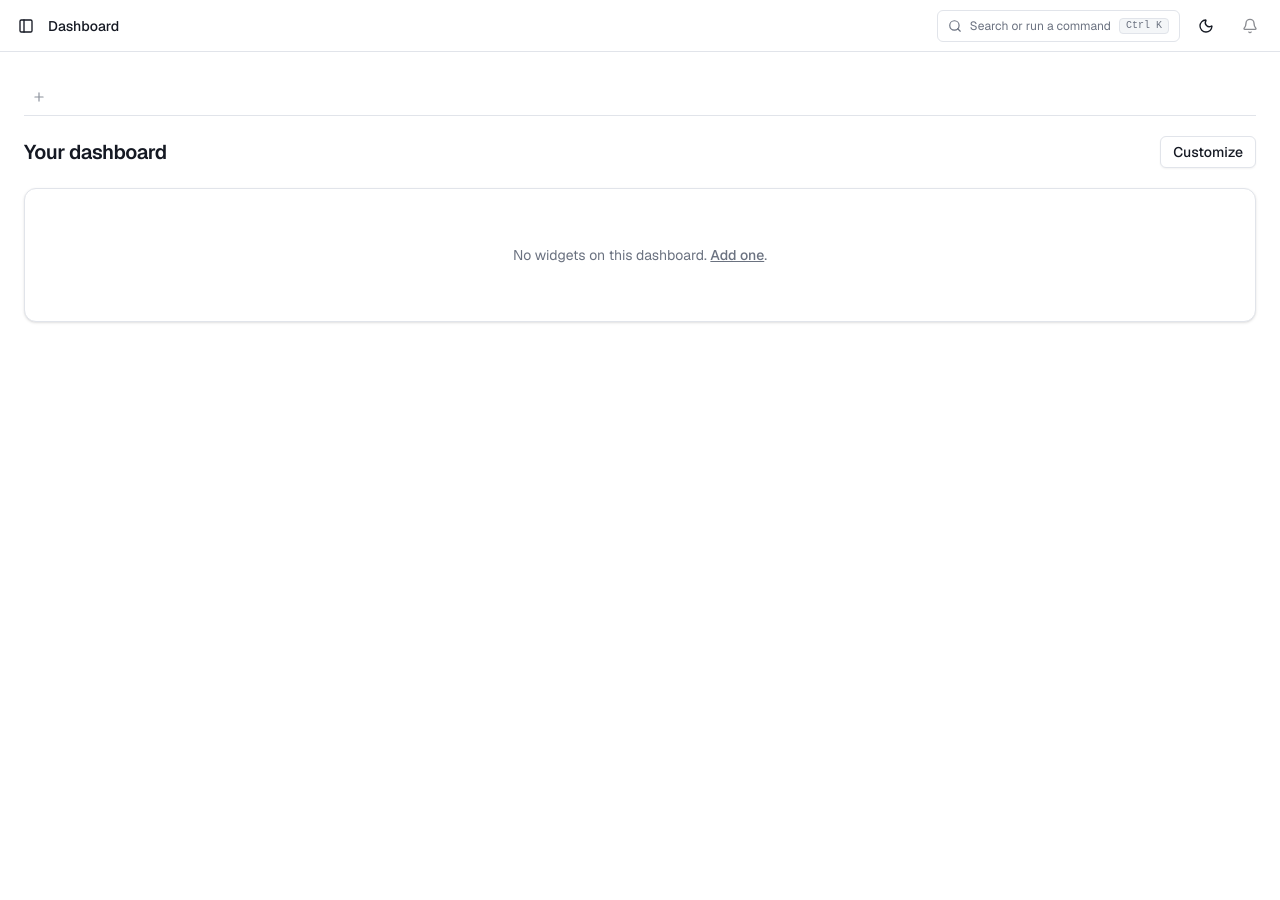
Test: CommandPalette › renders matching projects after typing a query
expect the button "Search or run a command Ctrl K" is shown: met, box [937,10,1180,42]
Press k
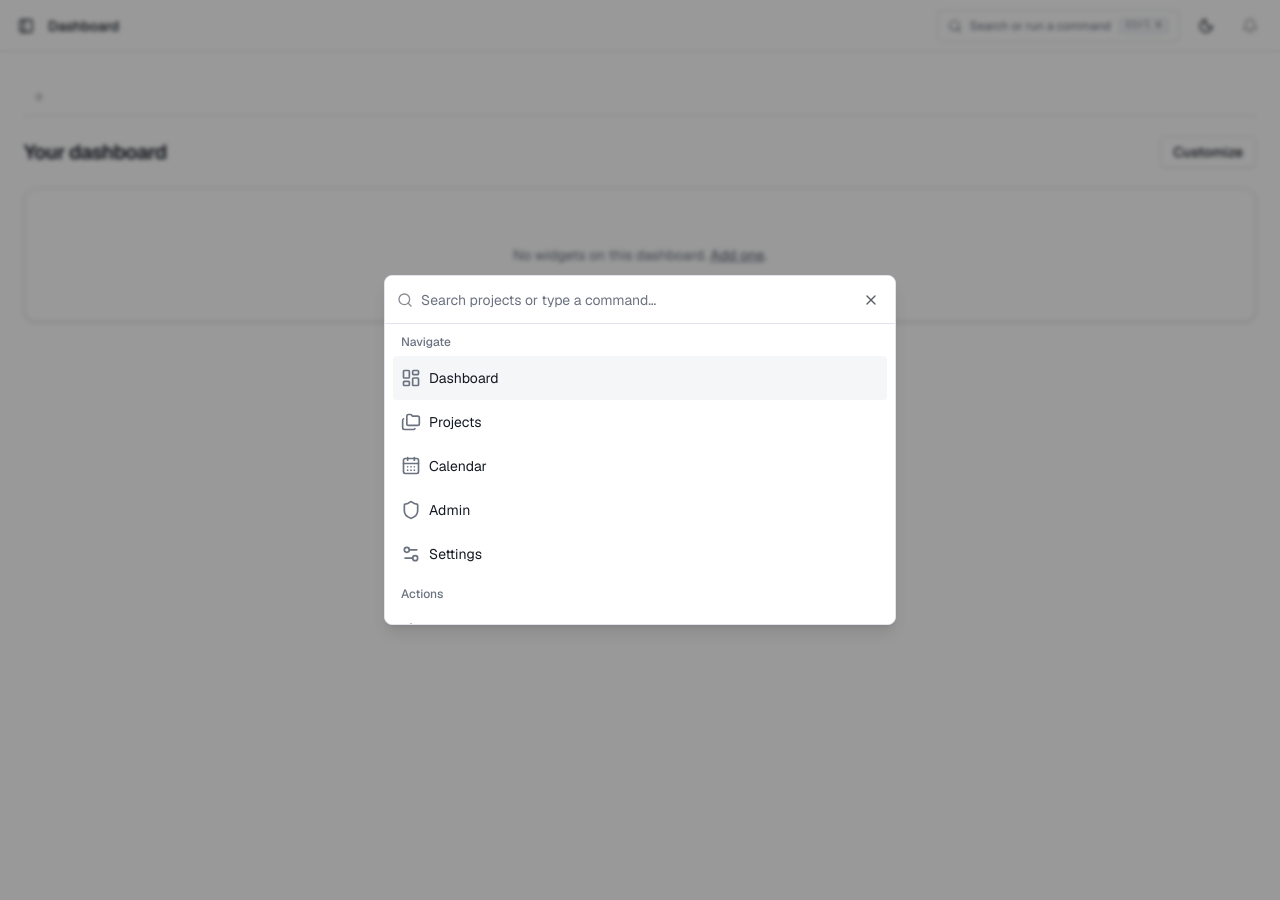
Type "hawthorn" into the dropdown with placeholder "Search projects or type a command…" at (652, 300), box [421,276,883,324]
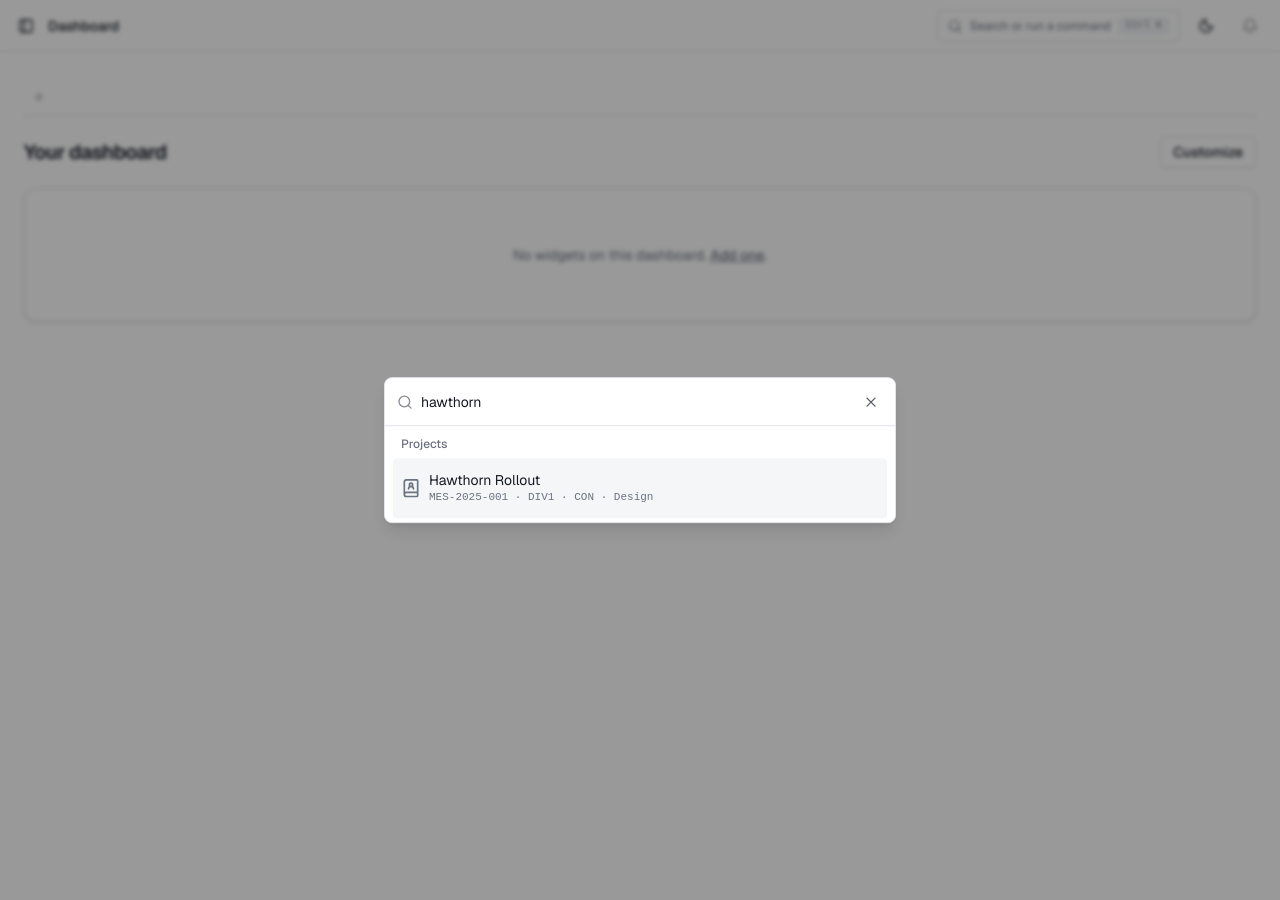
expect the text "Hawthorn Rollout" is shown: met, box [429,471,540,489]
